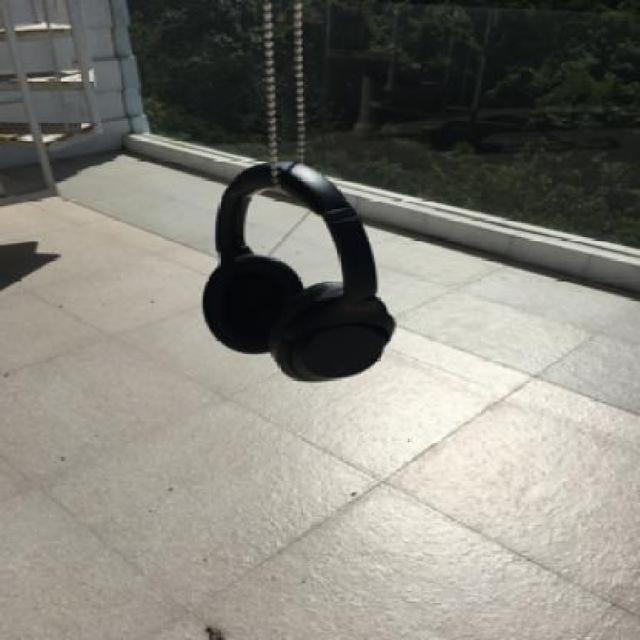earphone: (184, 107, 428, 425)
